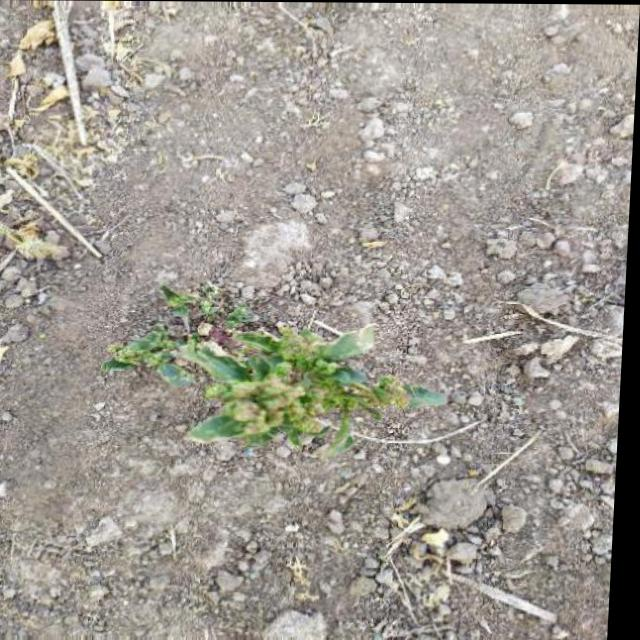weed: (114, 288, 443, 484)
